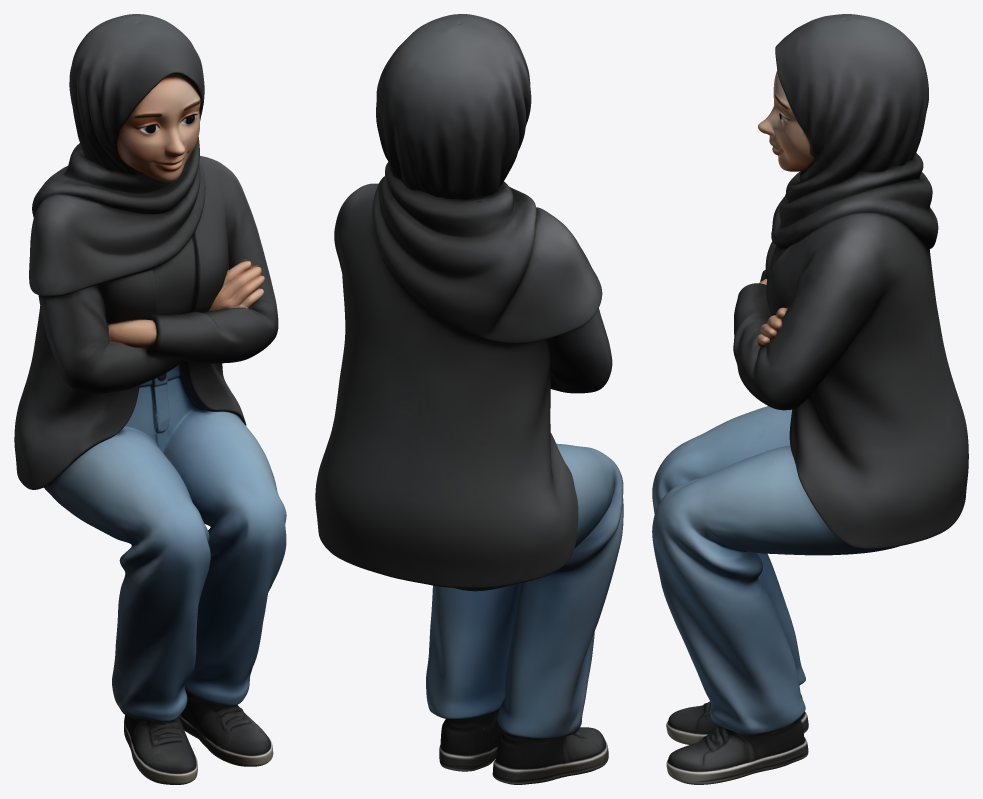
File: TiaraUIUX.fbx
The picture shows the model from 3 angles, left to right: view 1: azimuth 30°, elevation 25°; view 2: azimuth 150°, elevation 25°; view 3: azimuth 270°, elevation 25°; orthographic projection. The views are drawn at different scales.
Visible parts, largest first — view 1: tripo_node_0b1d802c; view 2: tripo_node_0b1d802c; view 3: tripo_node_0b1d802c.
Part boxes in pixels (x1=…): tripo_node_0b1d802c: x1=14, y1=14, x2=286, y2=784; tripo_node_0b1d802c: x1=315, y1=14, x2=623, y2=784; tripo_node_0b1d802c: x1=652, y1=14, x2=968, y2=784.
Bounding box in the file's own units: 0.3302 × 1 × 0.3904.
